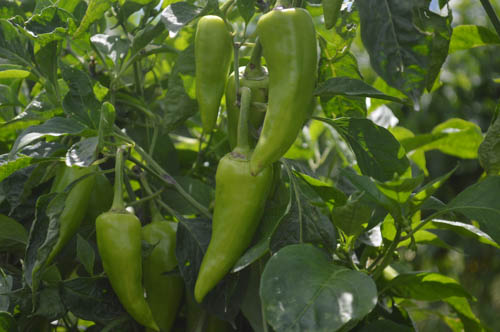ChiliPepper: (191, 157, 273, 305), (249, 13, 315, 185), (95, 210, 153, 325), (135, 218, 184, 327), (39, 162, 92, 257), (191, 14, 230, 136), (227, 67, 268, 142)
